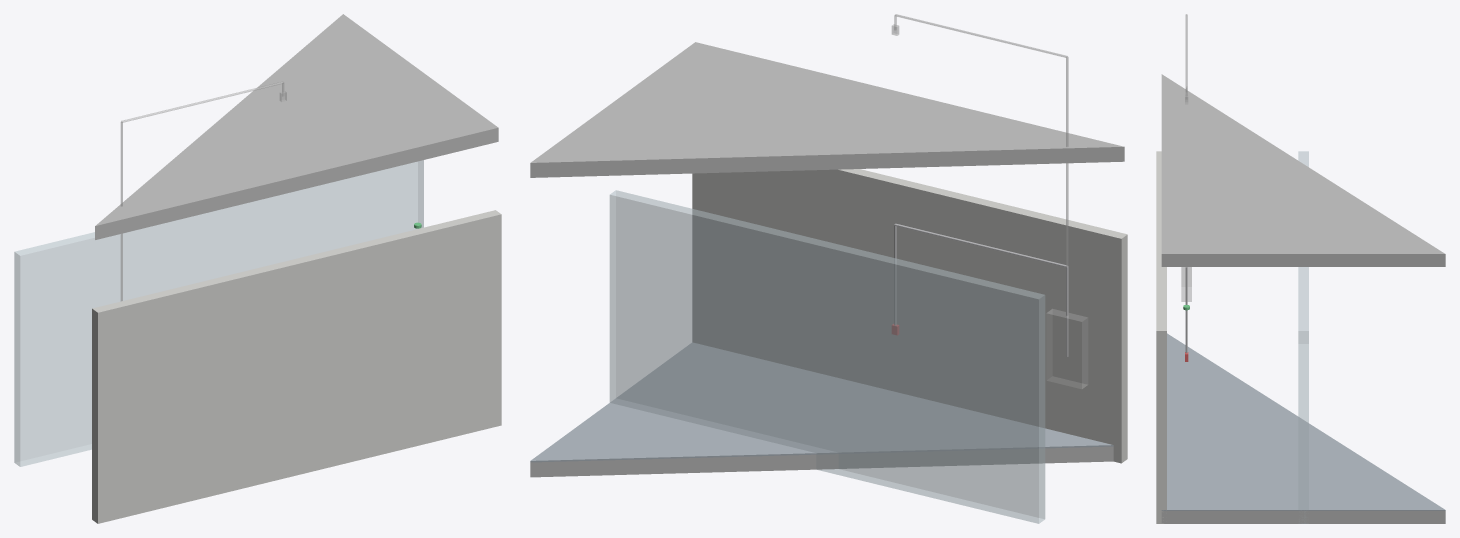
File: layers-preset-ghost-power.glb
3 views of the same model, side by side, from view 1: azimuth 30°, elevation 25°; view 2: azimuth 150°, elevation 25°; view 3: azimuth 270°, elevation 25° (orthographic). The views are drawn at different scales.
Visible parts, largest first — view 1: wall:one-a, wall:one-glass, slab:two, route:two; view 2: wall:one-glass, wall:one-a, slab:two, space:one, slab:one, equip:panel, route:two, route:one; view 3: slab:two, space:one, slab:one, wall:one-a, wall:one-glass, equip:panel.
Part boxes in pixels (left/top/right/bottom): wall:one-a: left=92, top=210, right=501, bottom=523; wall:one-glass: left=14, top=160, right=423, bottom=466; slab:two: left=95, top=14, right=498, bottom=239; route:two: left=120, top=81, right=284, bottom=301; wall:one-glass: left=609, top=190, right=1045, bottom=523; wall:one-a: left=692, top=169, right=1127, bottom=463; slab:two: left=530, top=42, right=1124, bottom=177; space:one: left=530, top=342, right=1113, bottom=462; slab:one: left=530, top=446, right=1113, bottom=477; equip:panel: left=1046, top=309, right=1088, bottom=388; route:two: left=894, top=14, right=1068, bottom=315; route:one: left=894, top=223, right=1068, bottom=356; slab:two: left=1161, top=74, right=1445, bottom=266; space:one: left=1161, top=333, right=1445, bottom=510; slab:one: left=1161, top=511, right=1445, bottom=523; wall:one-a: left=1156, top=151, right=1166, bottom=523; wall:one-glass: left=1298, top=151, right=1308, bottom=523; equip:panel: left=1181, top=267, right=1191, bottom=301.
Bounding box in the file's own units: 6 × 5.41 × 4.08.
